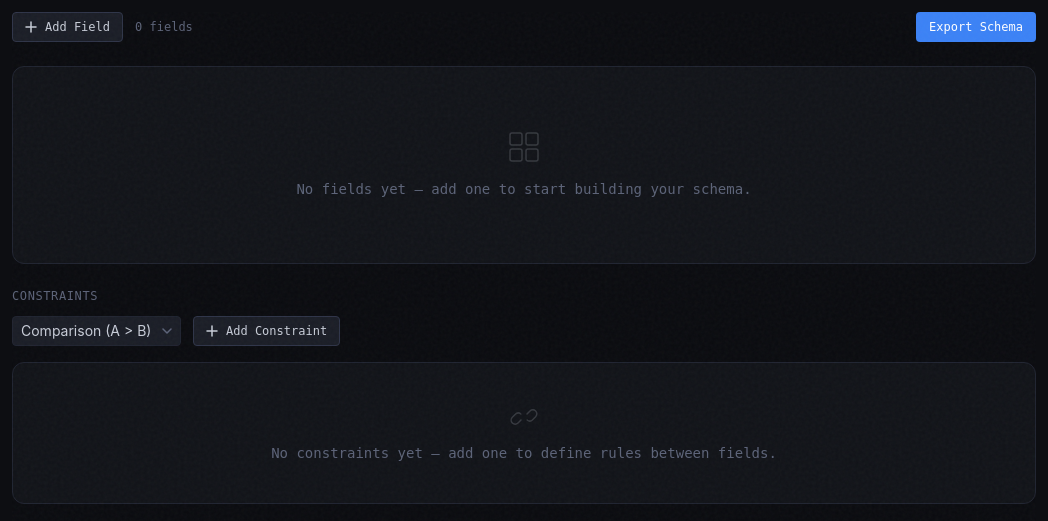
it: SchemaBuilder › shows min/max inputs when type is integer
This screenshot has width=1048, height=521.
Click the button "Add Field" at (68, 27), box [12,12,123,42]
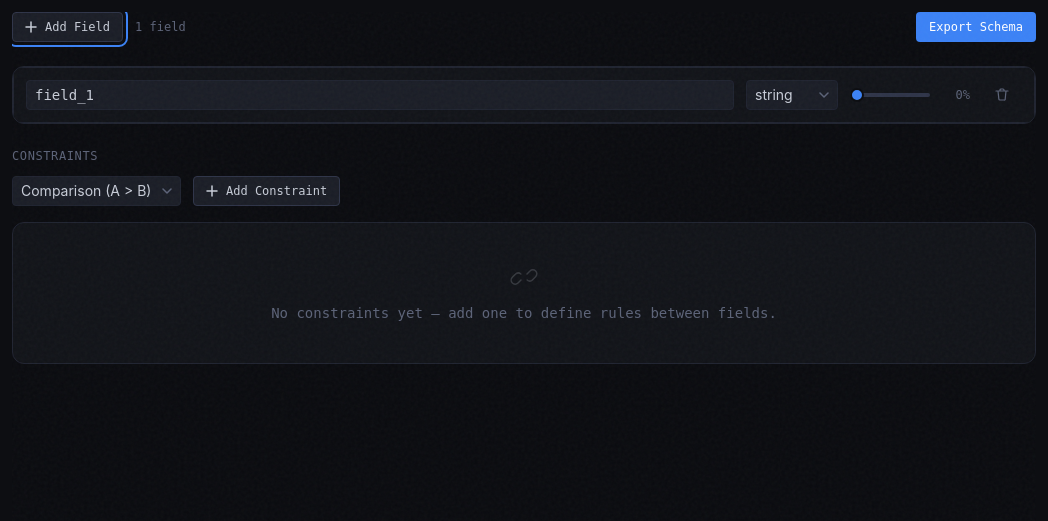
Select "integer" in the dropdown named "field type" at (792, 95), box [746,80,838,110]
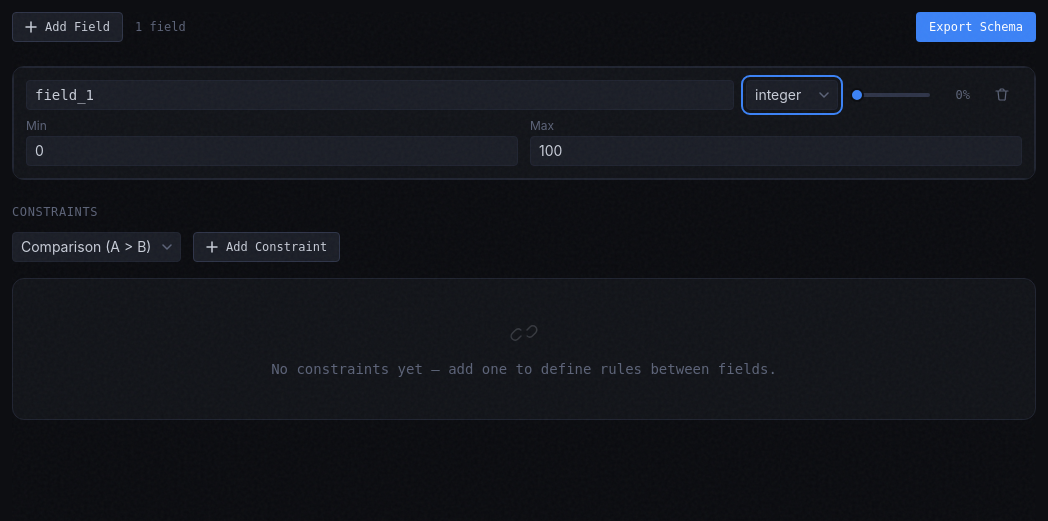
Check: the number field labelled "Min" is shown, box [26,136,518,166]
Check: the number field labelled "Max" is shown, box [530,136,1022,166]
